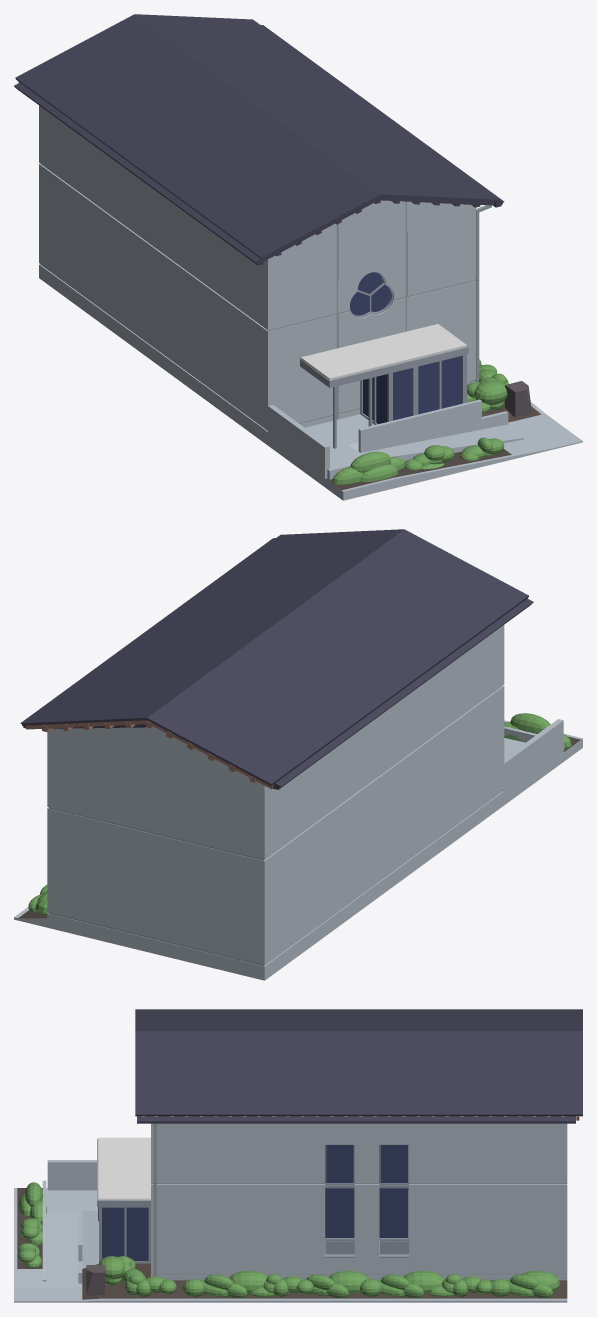
Rendered from FlosGallery_Exterior.fbx.
The picture shows the model from 3 angles, top to bottom: view 1: azimuth 30°, elevation 25°; view 2: azimuth 150°, elevation 25°; view 3: azimuth 270°, elevation 25°; orthographic projection. The views are drawn at different scales.
Parts seen in each view (by area): view 1: FlossGallery_Exterior; view 2: FlossGallery_Exterior; view 3: FlossGallery_Exterior.
Boxes of the visible parts, x1,y1,x2,y2 form: FlossGallery_Exterior: (14, 14, 582, 500); FlossGallery_Exterior: (14, 529, 582, 980); FlossGallery_Exterior: (14, 1009, 582, 1302).
Bounding box in the file's own units: 4926 × 4206 × 10260.
